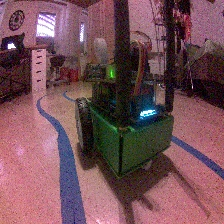rob: (74, 39, 177, 181)
